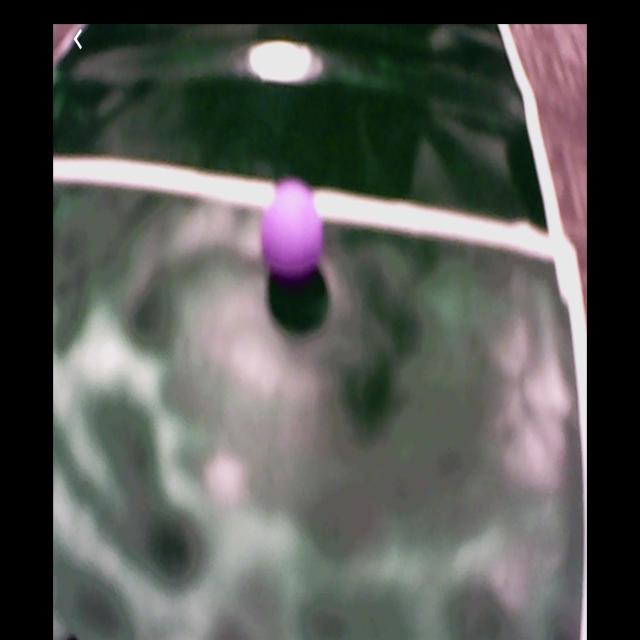ball: (260, 177, 326, 282)
